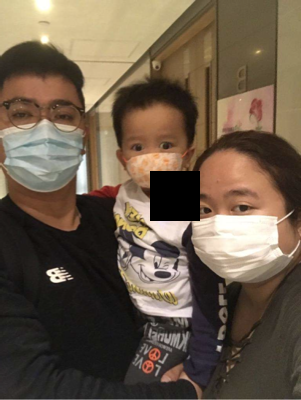with_mask: (191, 185, 296, 287), (0, 94, 86, 195), (121, 130, 186, 192)
